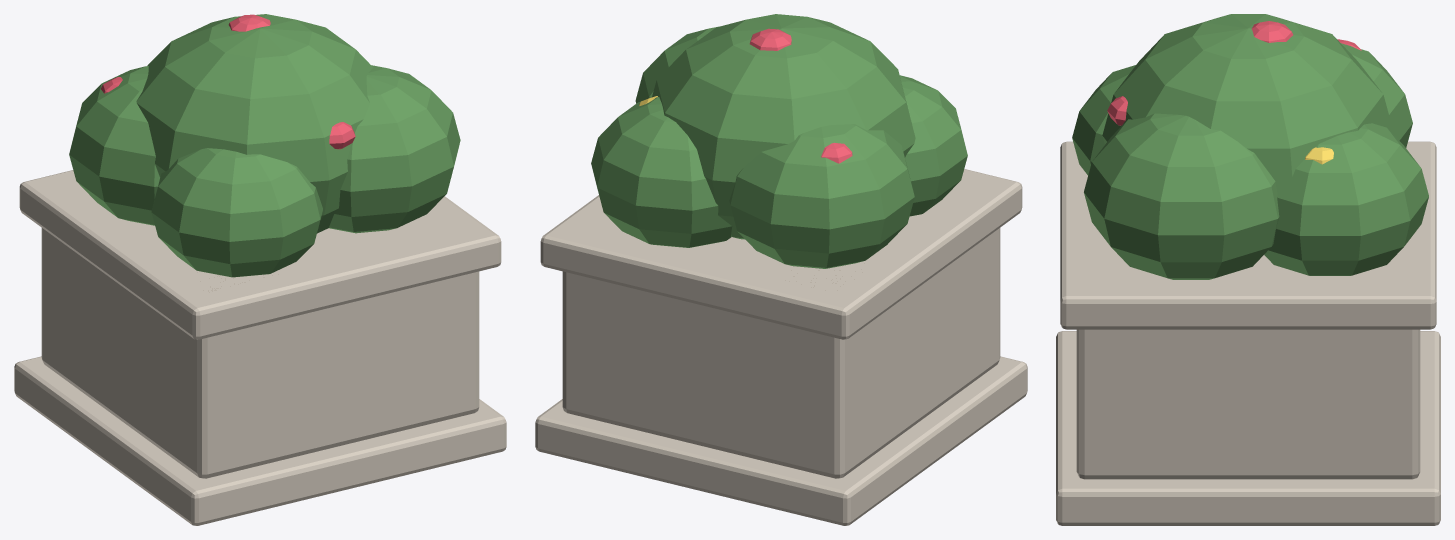
File: street_planter.glb
The picture shows the model from 3 angles, left to right: view 1: azimuth 30°, elevation 25°; view 2: azimuth 150°, elevation 25°; view 3: azimuth 270°, elevation 25°; orthographic projection. The views are drawn at different scales.
Parts seen in each view (by area): view 1: street_planter; view 2: street_planter; view 3: street_planter.
Part boxes in pixels (bbox=[...]): street_planter: bbox=[14, 14, 506, 525]; street_planter: bbox=[535, 14, 1027, 525]; street_planter: bbox=[1056, 14, 1440, 525].
Bounding box in the file's own units: 0.94 × 1.14 × 0.94.
